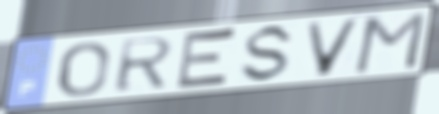E: (172, 26, 240, 92)
M: (350, 9, 430, 76)
O: (56, 40, 112, 100)
R: (112, 35, 178, 95)
S: (236, 22, 299, 85)
V: (302, 16, 365, 78)
